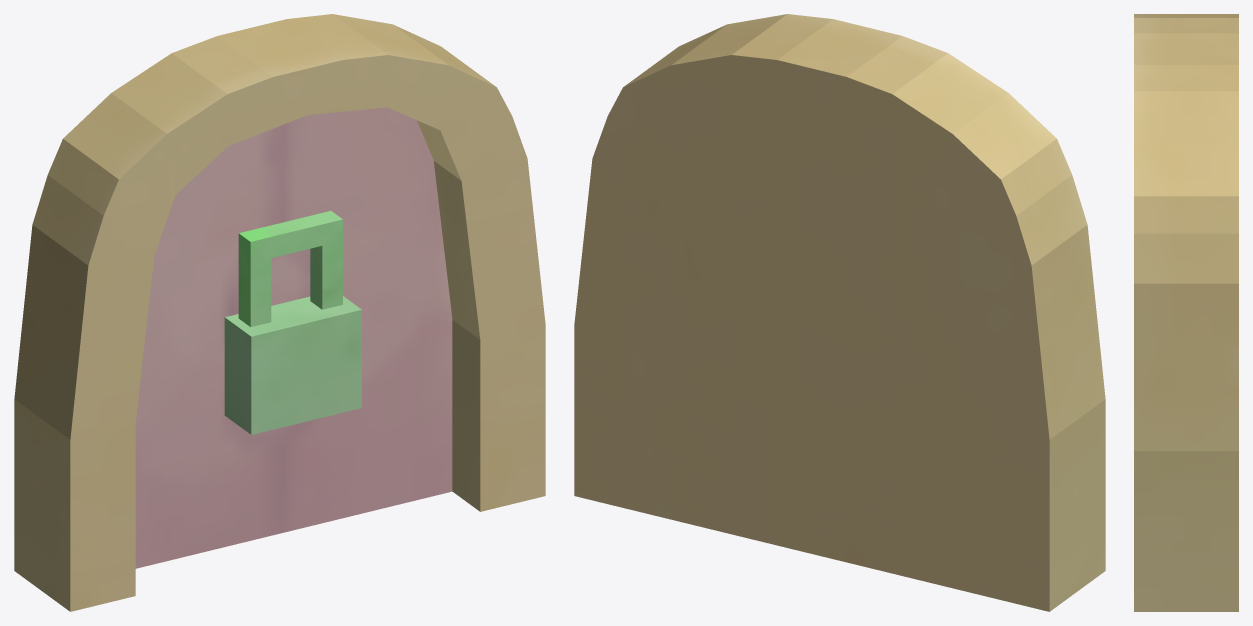
The model's file is door_locked.fbx.
3 views of the same model, side by side, from view 1: azimuth 30°, elevation 25°; view 2: azimuth 150°, elevation 25°; view 3: azimuth 270°, elevation 25° (orthographic). The views are drawn at different scales.
Visible parts, largest first — view 1: Door.001; view 2: Door.001; view 3: Door.001.
Part boxes in pixels (bbox=[...]): Door.001: bbox=[14, 14, 545, 611]; Door.001: bbox=[574, 14, 1105, 611]; Door.001: bbox=[1134, 14, 1238, 611].
Bounding box in the file's own units: 291 × 284 × 59.44.
